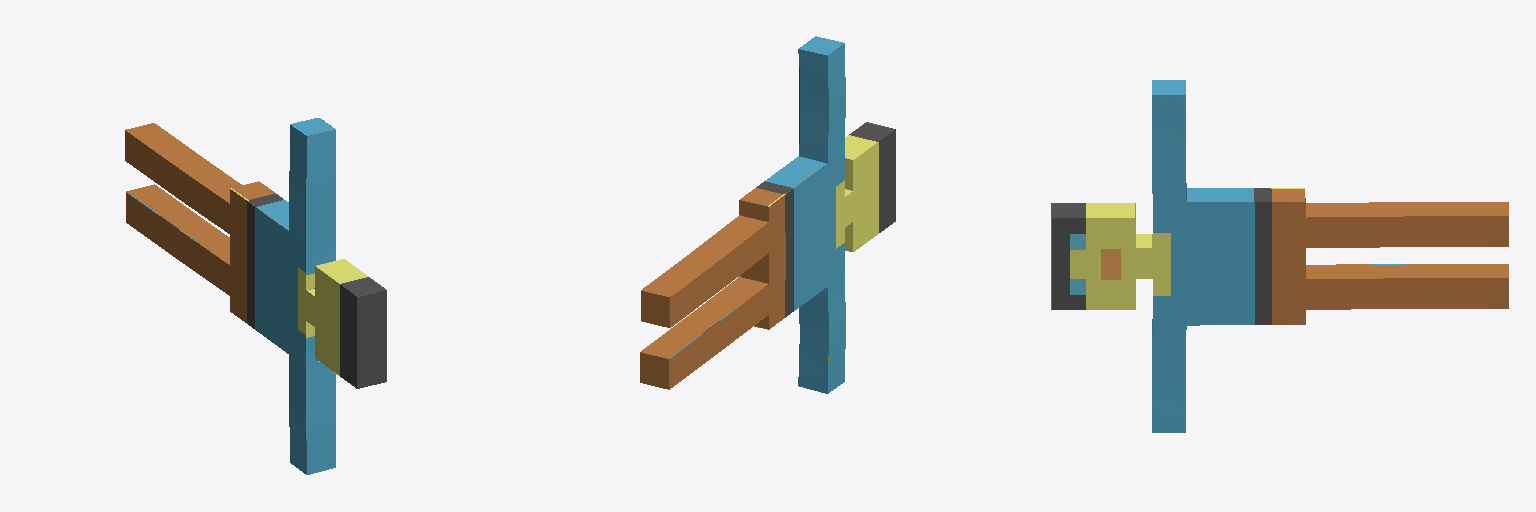
3 renders of one model, left to right at view 1: azimuth 30°, elevation 25°; view 2: azimuth 150°, elevation 25°; view 3: azimuth 270°, elevation 25°, orthographic.
Parts seen in each view (by area): view 1: char.001_char.001mesh; view 2: char.001_char.001mesh; view 3: char.001_char.001mesh.
Part boxes in pixels (left/top/right/bottom): char.001_char.001mesh: left=125, top=118, right=386, bottom=474; char.001_char.001mesh: left=640, top=36, right=895, bottom=393; char.001_char.001mesh: left=1051, top=80, right=1508, bottom=432.
Bounding box in the file's own units: 0.0225 × 0.2206 × 0.2701.
Materials: 1 (1 with a texture image).